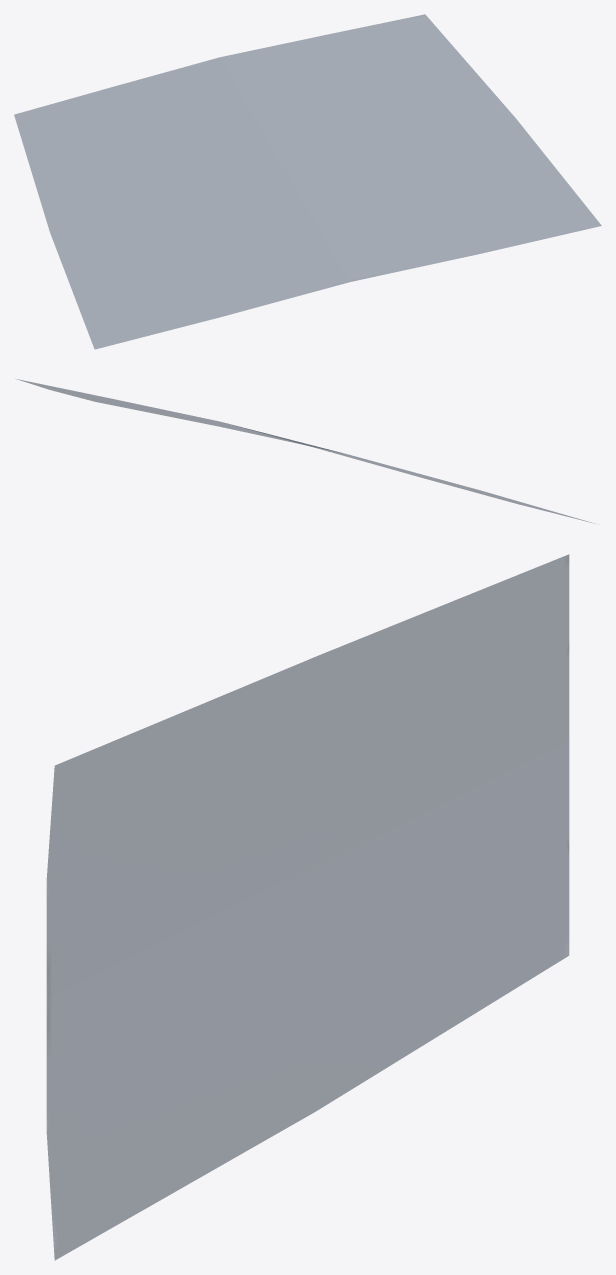
The model's file is GEO_Rear_Backlight.glb.
3 renders of one model, top to bottom at view 1: azimuth 30°, elevation 25°; view 2: azimuth 150°, elevation 25°; view 3: azimuth 270°, elevation 25°, orthographic. The views are drawn at different scales.
Visible parts, largest first — view 1: GEO_Rear_Backlight; view 2: GEO_Rear_Backlight; view 3: GEO_Rear_Backlight.
Part boxes in pixels (bbox=[...]): GEO_Rear_Backlight: bbox=[14, 14, 601, 349]; GEO_Rear_Backlight: bbox=[17, 379, 594, 523]; GEO_Rear_Backlight: bbox=[46, 554, 569, 1260].
Bounding box in the file's own units: 1.48 × 0.38 × 0.66.
